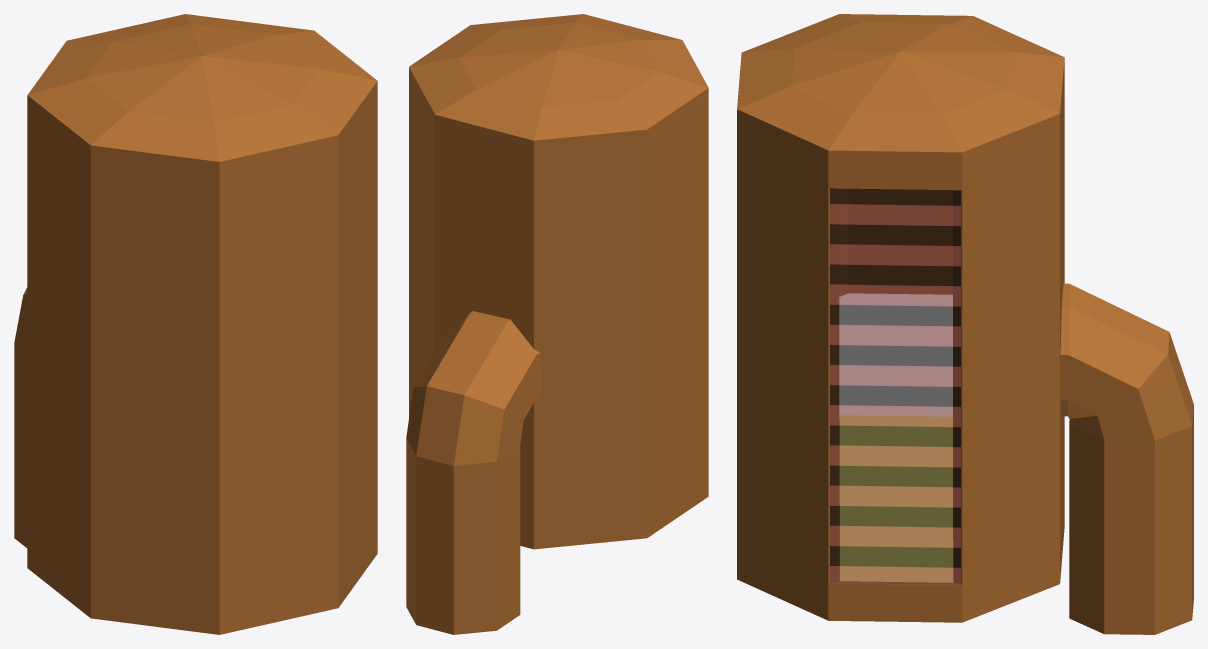
The model's file is VAT80.glb.
3 renders of one model, left to right at view 1: azimuth 30°, elevation 25°; view 2: azimuth 150°, elevation 25°; view 3: azimuth 270°, elevation 25°, orthographic. The views are drawn at different scales.
Parts seen in each view (by area): view 1: Cylinder, Cylinder.001; view 2: Cylinder, Cylinder.001; view 3: Cylinder, glass, Cylinder.001, liquidHeight.
Boxes of the visible parts, x1,y1,x2,y2 form: Cylinder: (27,14,377,634); Cylinder.001: (14,287,27,547); Cylinder: (409,14,708,549); Cylinder.001: (406,311,541,634); Cylinder: (737,14,1064,622); glass: (830,188,960,584); Cylinder.001: (1060,283,1193,634); liquidHeight: (839,293,952,582).
Bounding box in the file's own units: 1.82 × 3.44 × 2.54.
4 materials, 1 textured.
